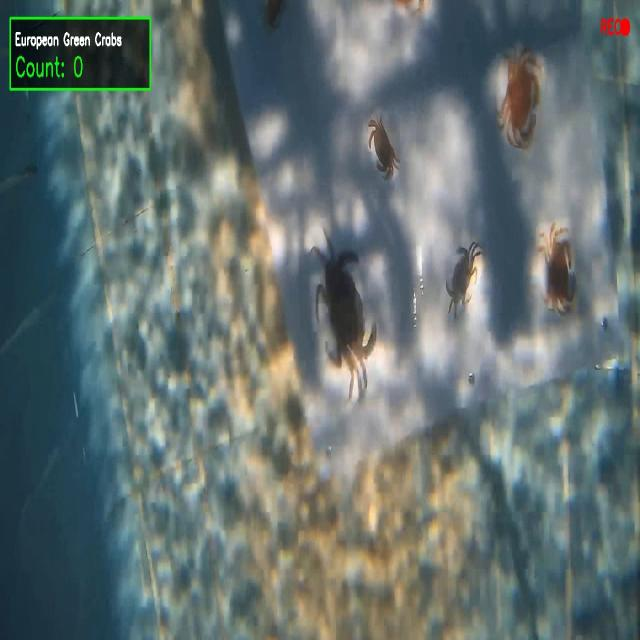European_Green_Crab: (296, 212, 387, 423), (439, 227, 488, 329)
